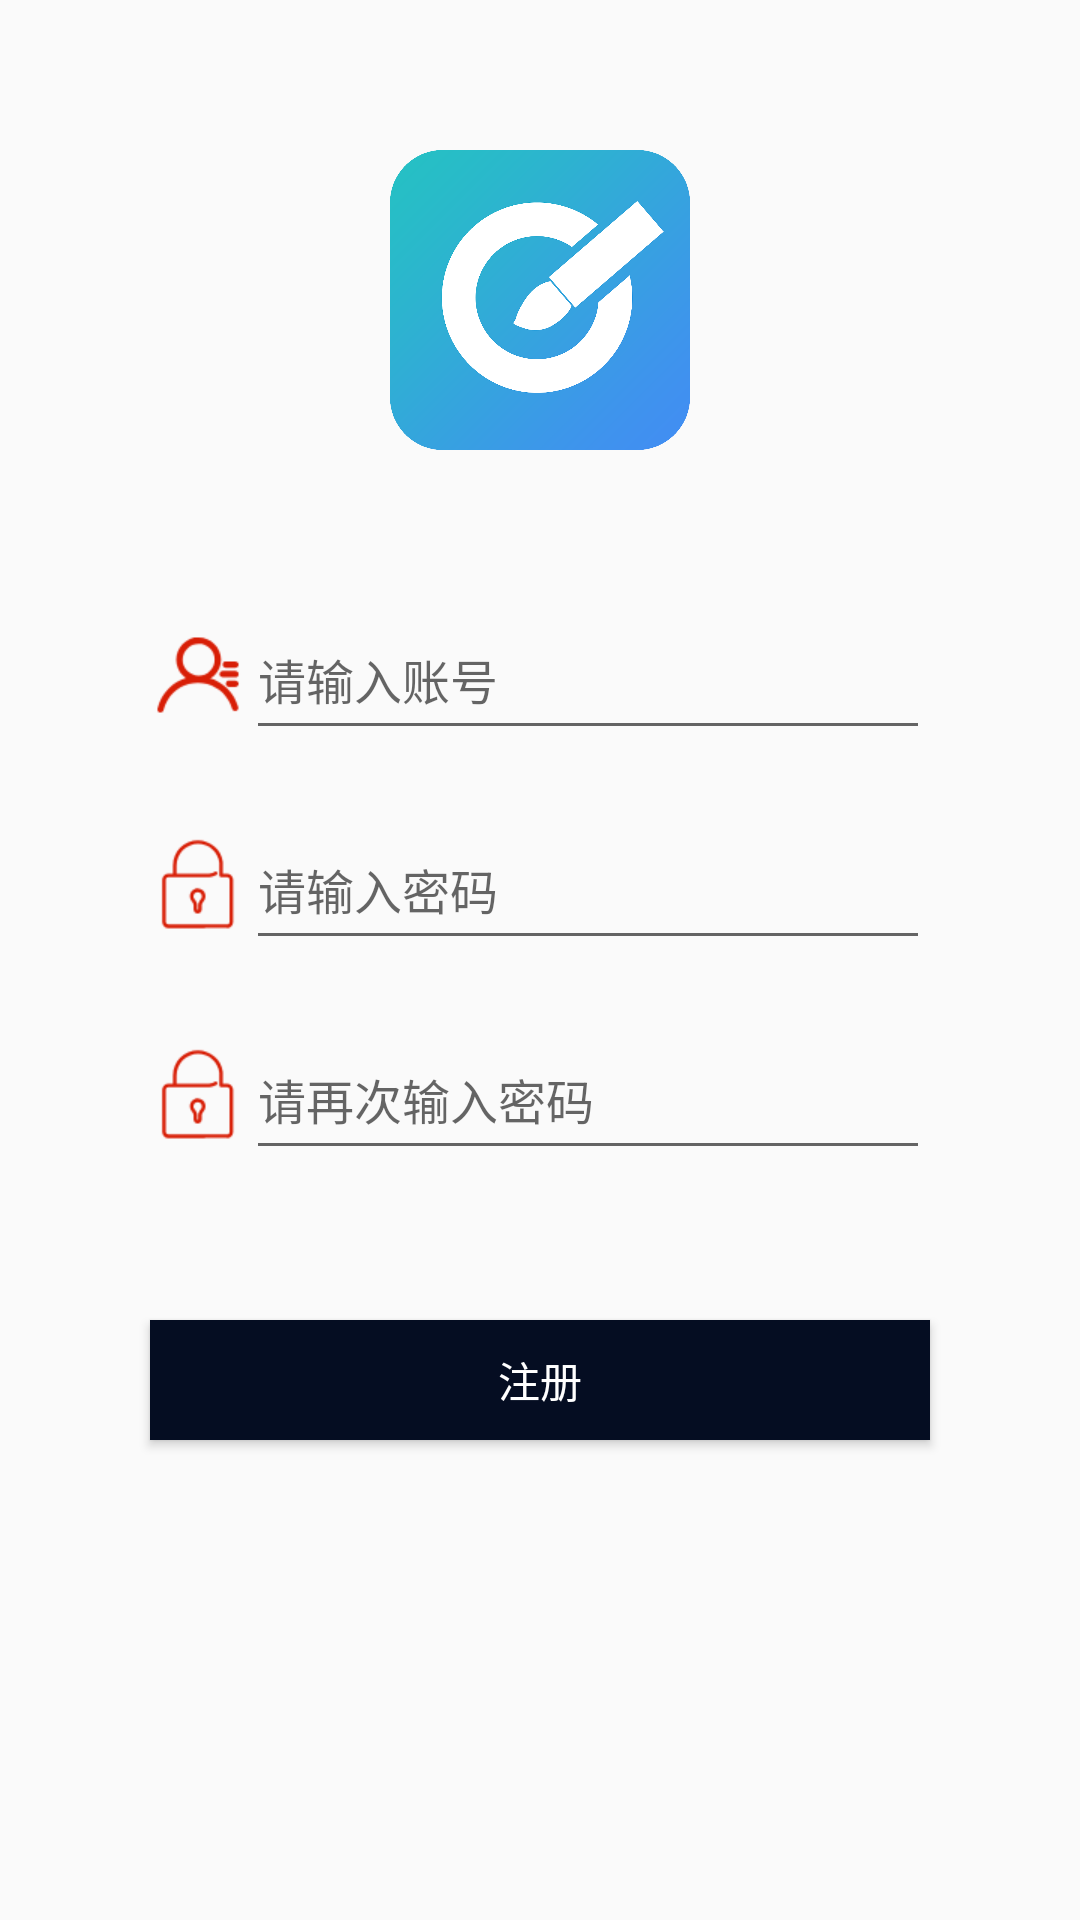

Where icons sit on this 1080x1920 app screen, as (x1, y1, x2, y2):
account: (157, 637, 239, 713)
